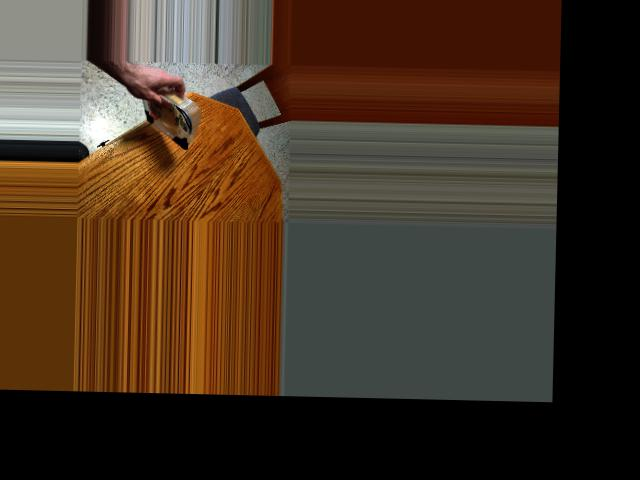cheese: (123, 89, 207, 147)
